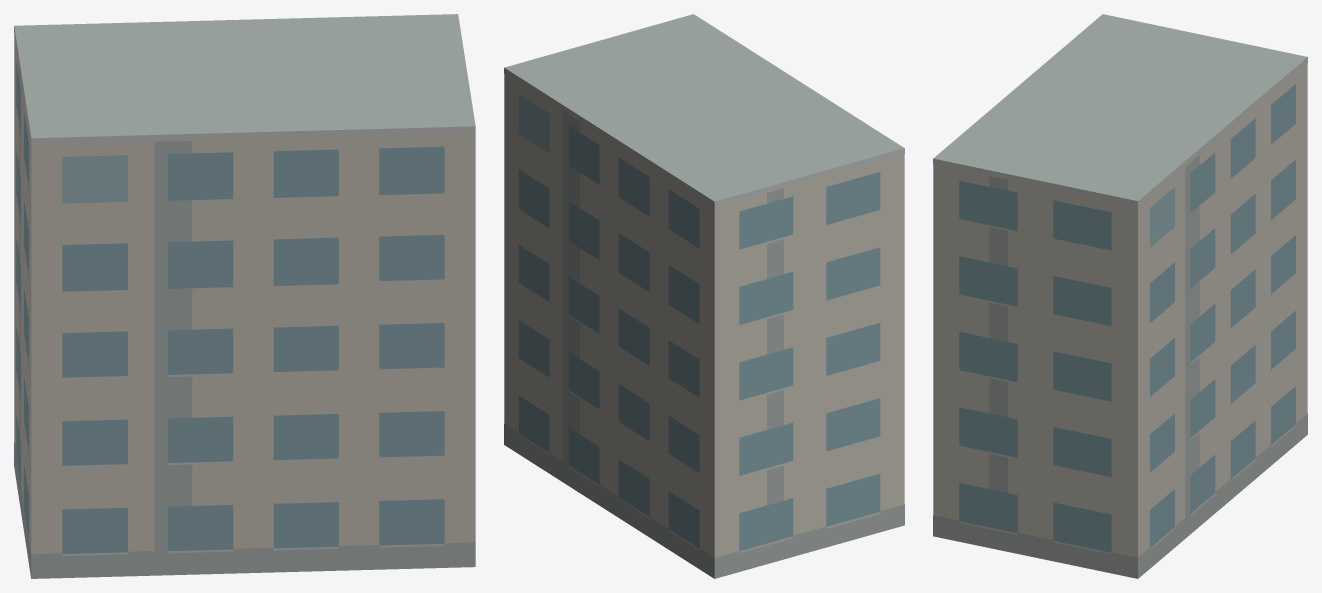
The model's file is survey-upis-32525607.glb.
3 renders of one model, left to right at view 1: azimuth 30°, elevation 25°; view 2: azimuth 150°, elevation 25°; view 3: azimuth 270°, elevation 25°, orthographic. The views are drawn at different scales.
Parts seen in each view (by area): view 1: survey-upis-32525607.tmp; view 2: survey-upis-32525607.tmp; view 3: survey-upis-32525607.tmp.
Boxes of the visible parts, x1=… form: survey-upis-32525607.tmp: x1=14, y1=14, x2=475, y2=578; survey-upis-32525607.tmp: x1=504, y1=14, x2=904, y2=578; survey-upis-32525607.tmp: x1=933, y1=14, x2=1307, y2=578.
Bounding box in the file's own units: 16.37 × 15.4 × 13.85.
